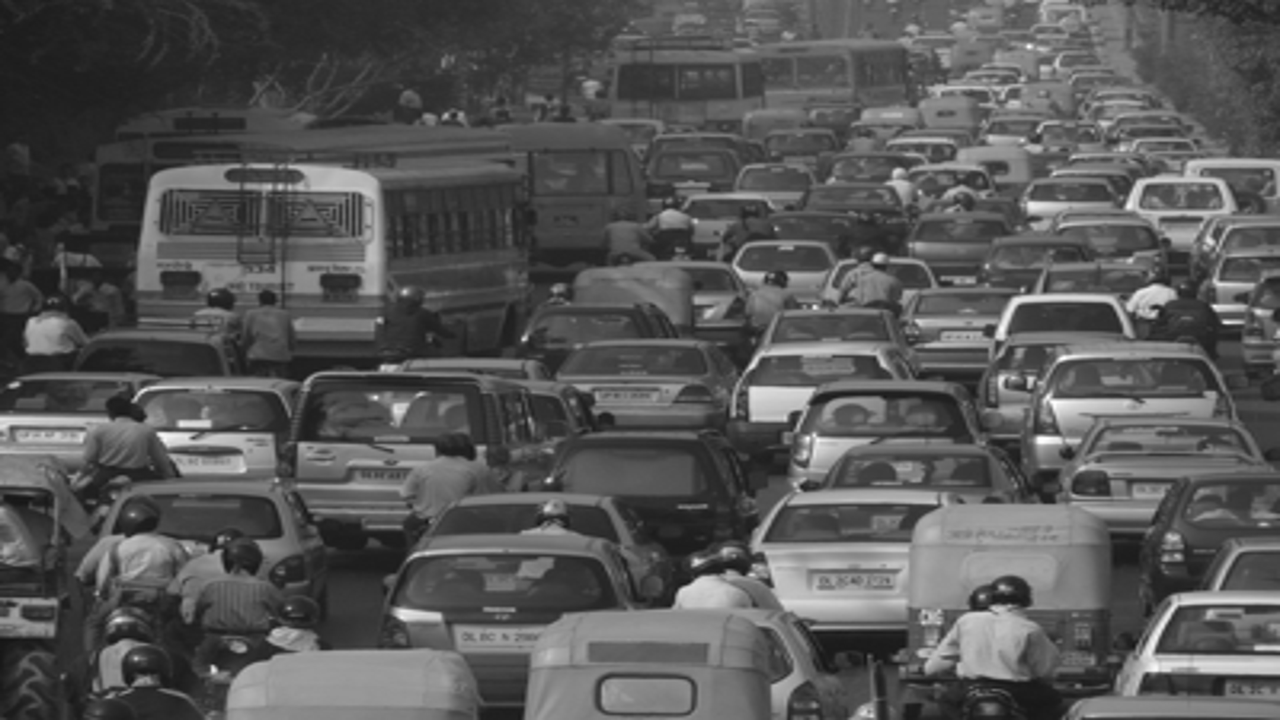license: (805, 565, 902, 597), (453, 621, 547, 652), (6, 422, 90, 453), (164, 445, 242, 474), (344, 461, 420, 488), (590, 384, 664, 409), (1122, 474, 1185, 502), (940, 327, 993, 346)
